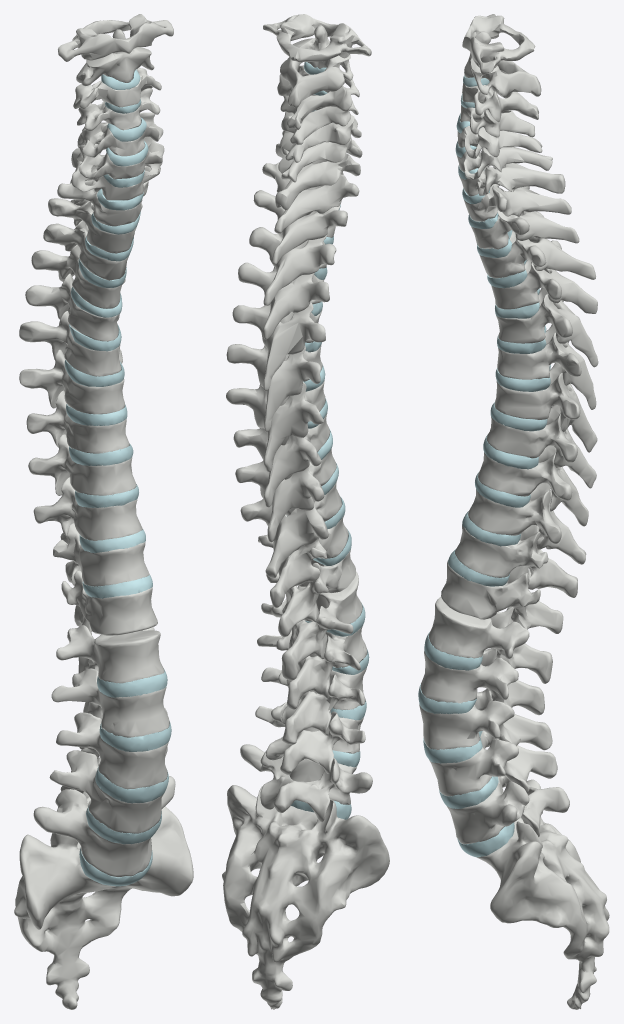
File: columna-detalle.glb
3 renders of one model, left to right at view 1: azimuth 30°, elevation 25°; view 2: azimuth 150°, elevation 25°; view 3: azimuth 270°, elevation 25°, orthographic. The views are drawn at different scales.
Parts seen in each view (by area): view 1: sacro, vertebra_l5, vertebra_l1, vertebra_l2, vertebra_l3, vertebra_l4, vertebra_t12, vertebra_t10, vertebra_t11, vertebra_t9, vertebra_c1, vertebra_t7 (+32 smaller); view 2: sacro, vertebra_l5, vertebra_l1, vertebra_l4, vertebra_t7, vertebra_l3, vertebra_t10, vertebra_l2, vertebra_t9, vertebra_t5, vertebra_t6, vertebra_t8 (+13 smaller); view 3: sacro, vertebra_l1, vertebra_l3, vertebra_l2, vertebra_t12, vertebra_l5, vertebra_l4, vertebra_t11, vertebra_t10, vertebra_t9, vertebra_t7, vertebra_t8 (+26 smaller).
Part boxes in pixels (left/top/right/bottom): sacro: left=14, top=806, right=193, bottom=1009; vertebra_l5: left=33, top=776, right=175, bottom=877; vertebra_l1: left=56, top=625, right=164, bottom=683; vertebra_l2: left=51, top=668, right=169, bottom=737; vertebra_l3: left=56, top=707, right=168, bottom=788; vertebra_l4: left=49, top=747, right=167, bottom=833; vertebra_t12: left=61, top=570, right=157, bottom=635; vertebra_t10: left=33, top=477, right=142, bottom=544; vertebra_t11: left=53, top=523, right=149, bottom=586; vertebra_t9: left=28, top=434, right=136, bottom=495; vertebra_c1: left=58, top=14, right=173, bottom=61; vertebra_t7: left=19, top=349, right=124, bottom=414; sacro: left=222, top=785, right=389, bottom=1009; vertebra_l5: left=240, top=744, right=372, bottom=822; vertebra_l1: left=261, top=571, right=362, bottom=680; vertebra_l4: left=255, top=702, right=365, bottom=774; vertebra_t7: left=226, top=380, right=325, bottom=471; vertebra_l3: left=261, top=667, right=366, bottom=744; vertebra_t10: left=240, top=481, right=341, bottom=577; vertebra_l2: left=257, top=625, right=367, bottom=709; vertebra_t9: left=235, top=448, right=336, bottom=542; vertebra_t5: left=232, top=302, right=325, bottom=391; vertebra_t6: left=226, top=344, right=322, bottom=431; vertebra_t8: left=233, top=413, right=329, bottom=507; sacro: left=477, top=779, right=609, bottom=1009; vertebra_l1: left=428, top=596, right=552, bottom=683; vertebra_l3: left=419, top=688, right=552, bottom=750; vertebra_l2: left=420, top=648, right=544, bottom=715; vertebra_t12: left=441, top=561, right=563, bottom=633; vertebra_l5: left=447, top=775, right=569, bottom=844; vertebra_l4: left=429, top=730, right=557, bottom=796; vertebra_t11: left=455, top=524, right=577, bottom=597; vertebra_t10: left=468, top=483, right=586, bottom=564; vertebra_t9: left=478, top=445, right=588, bottom=526; vertebra_t7: left=494, top=363, right=597, bottom=452; vertebra_t8: left=486, top=405, right=596, bottom=488.
Size of the model in its own units: 0.1178 by 0.6986 by 0.1232.
